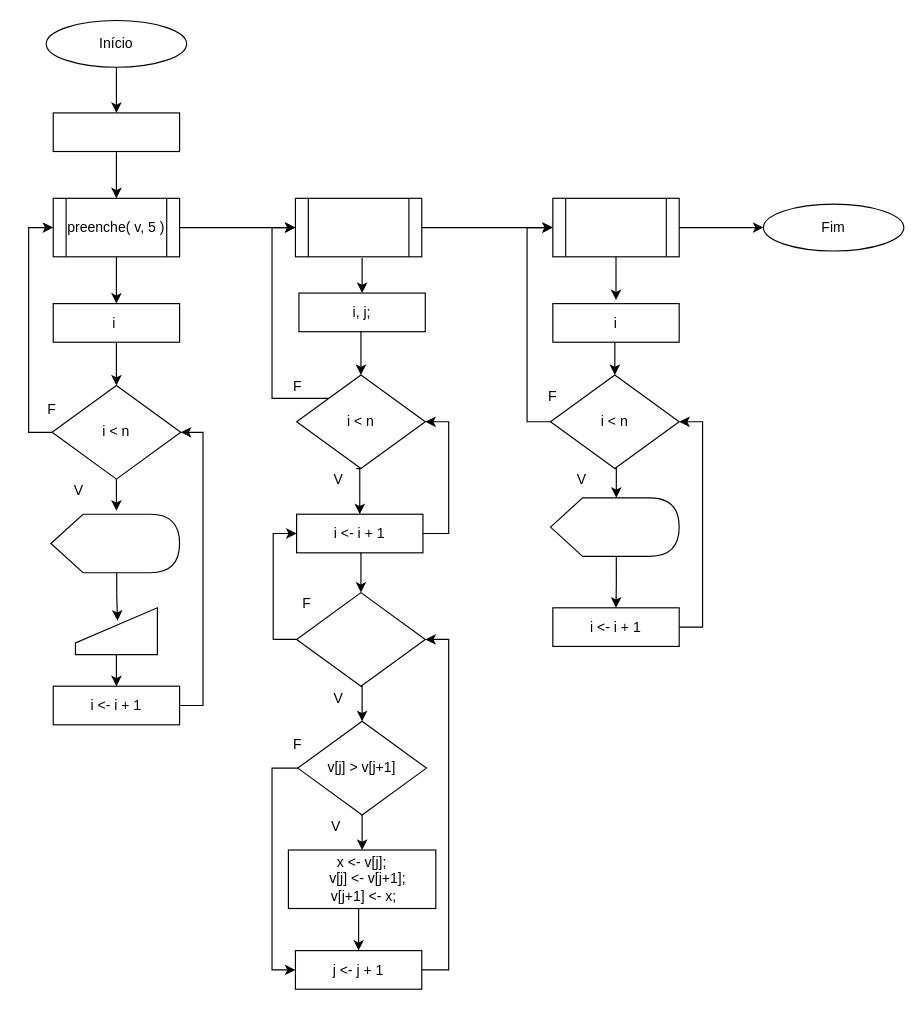
The diagram is 924 pixels wide and 1010 high, and some of its shapes have lost their labels. Each missing label, with the centre of its shape:
"%d\n", v[i]: pixel 614 526
"%do. item? ", i+1: pixel 115 543
exibe( v, 5 ): pixel 615 227
j < n-i: pixel 360 638
ordena( v, 5 ): pixel 358 227
v[5]: pixel 116 132
v[i]: pixel 115 631
